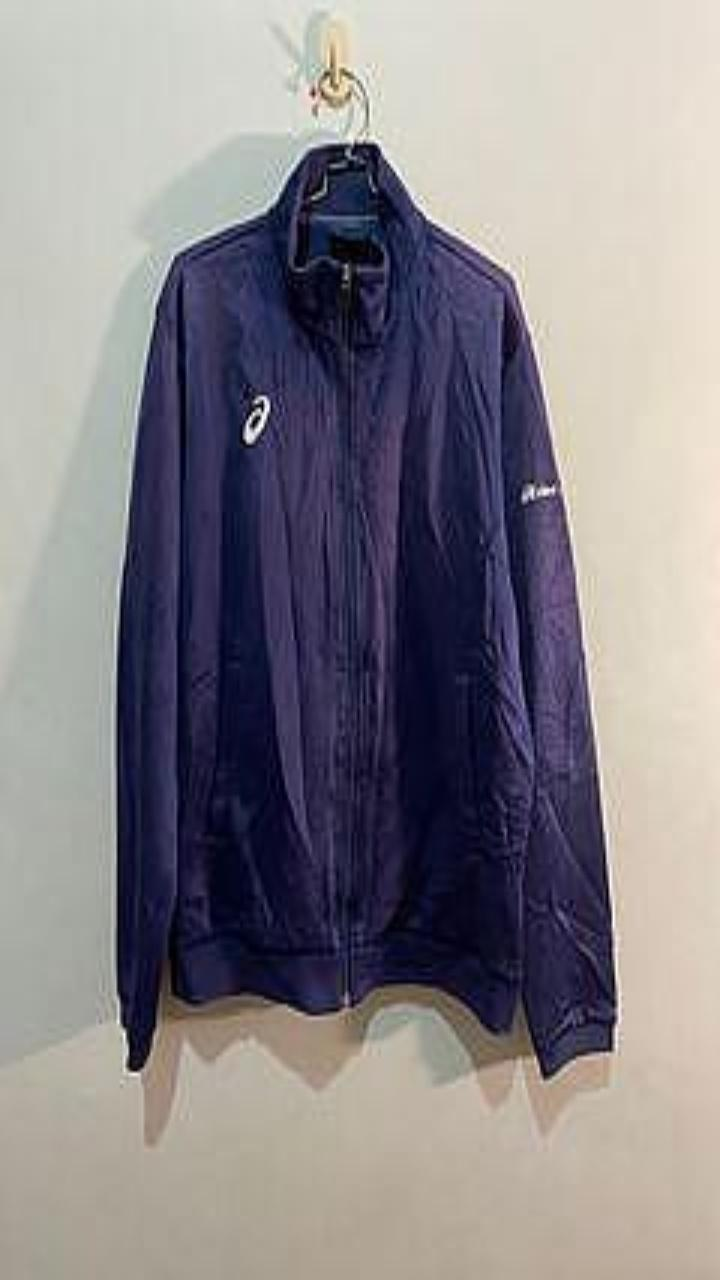Sports_Jacket: (115, 140, 616, 1076)
